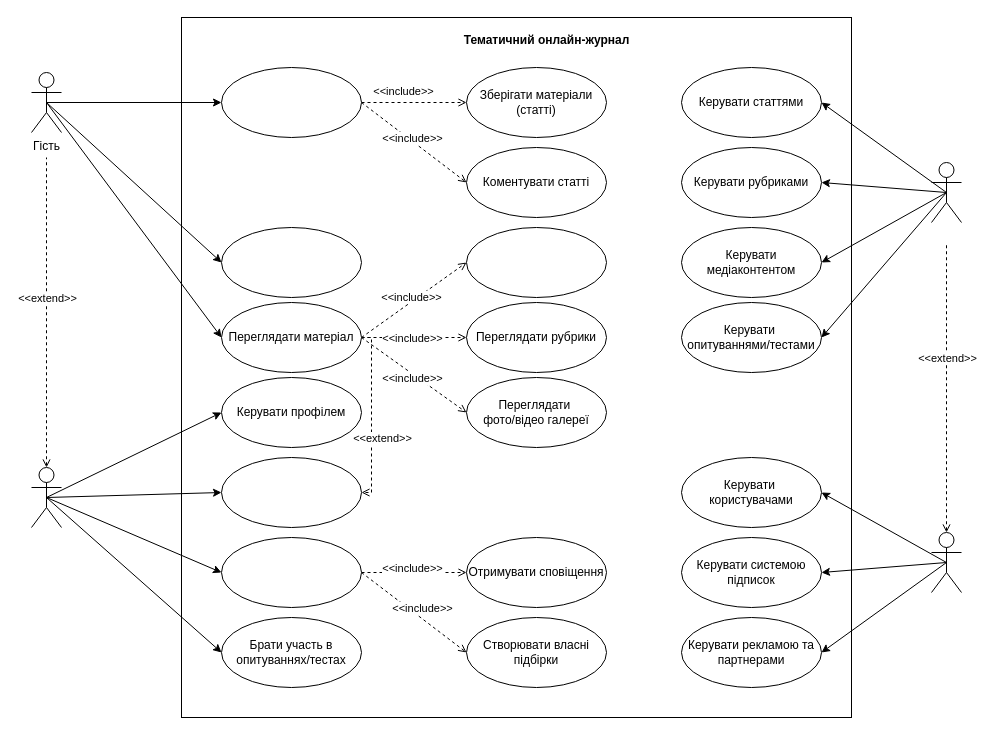
This 1003x735 diagram has some shape labels left out. The box of each missing label's shape, as (x1, y1, x2, y2) in pixels:
Адміністратор: (930, 532, 962, 592)
Ділитися статтями: (220, 226, 362, 298)
Керувати підпискою: (220, 536, 362, 608)
Переглядати безкоштовні статті: (466, 226, 606, 298)
Редактор: (930, 162, 962, 222)
Реєструватися/авторизуватися в системі: (220, 66, 362, 138)
Читати ексклюзивні матеріали: (220, 456, 362, 528)
Читач: (30, 466, 62, 528)
